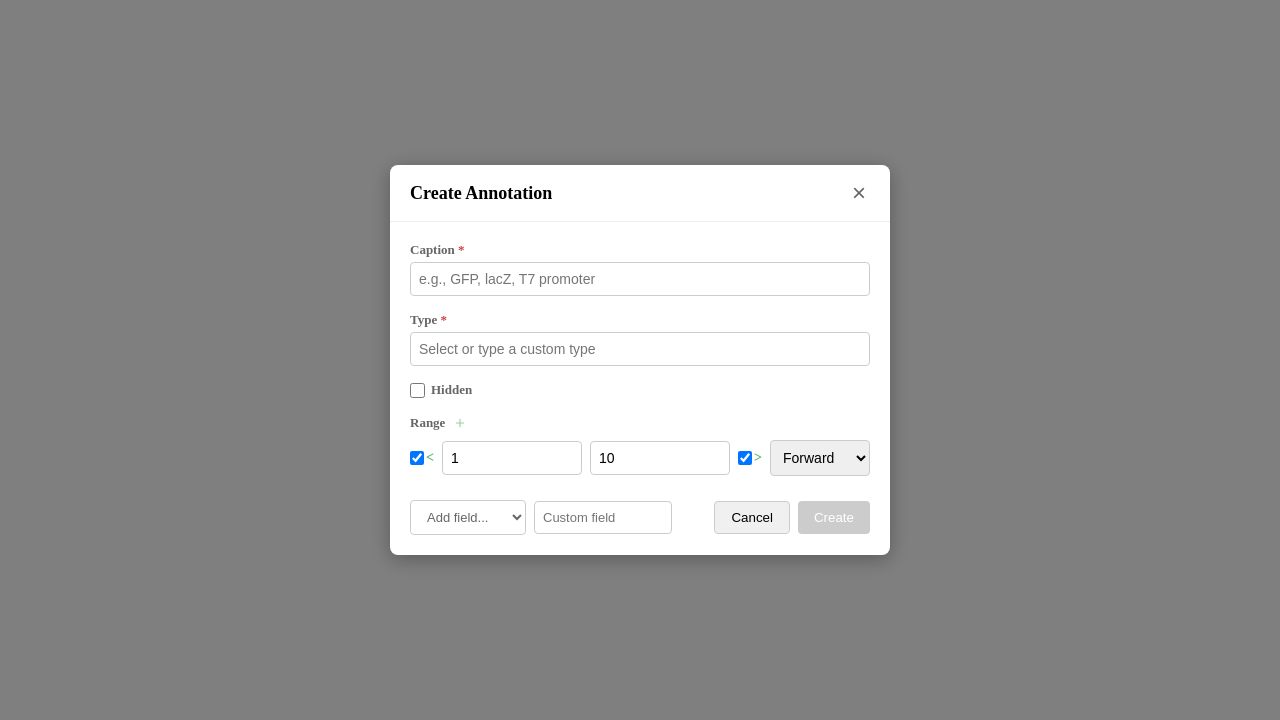
it: AnnotationModal › indefinite locations › newly added range has indefinite unchecked
Click the button with class "btn-add-range": [460, 423] box [451, 414, 469, 432]
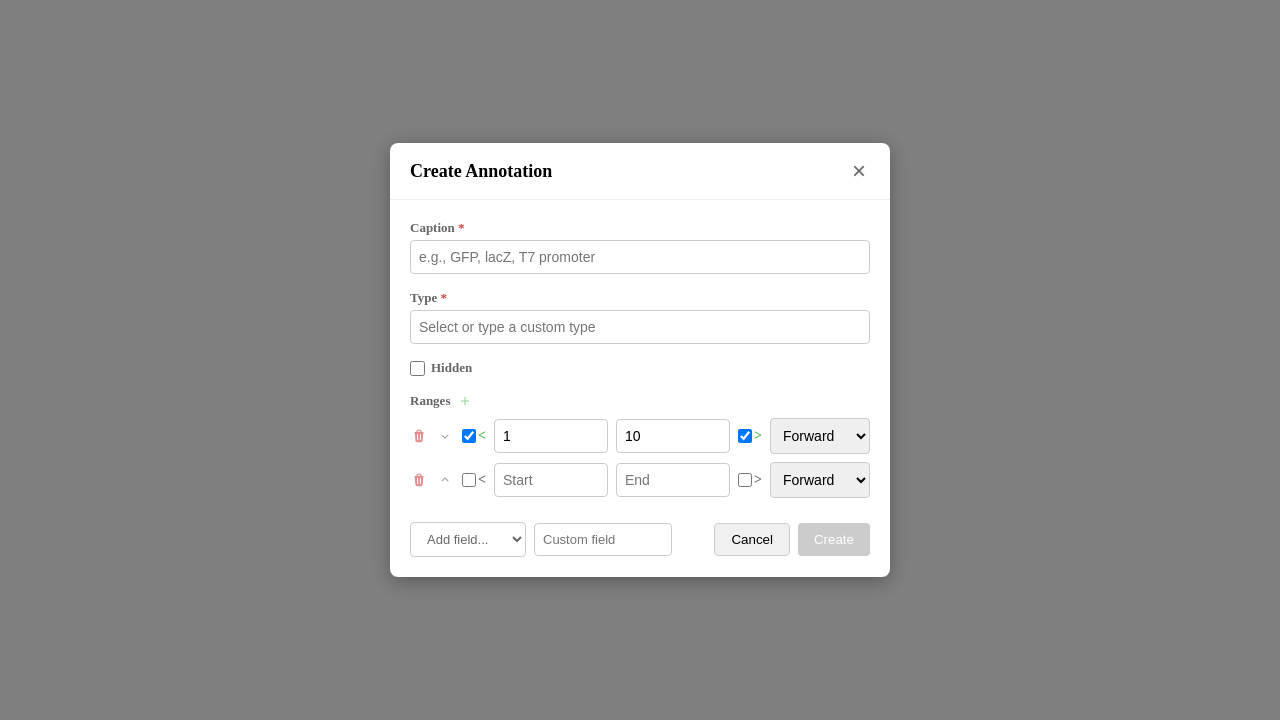
Expected: the 2nd checkbox labelled "<" is not checked, [462, 473, 476, 487]
Expected: the 2nd checkbox labelled ">" is not checked, [738, 473, 752, 487]
